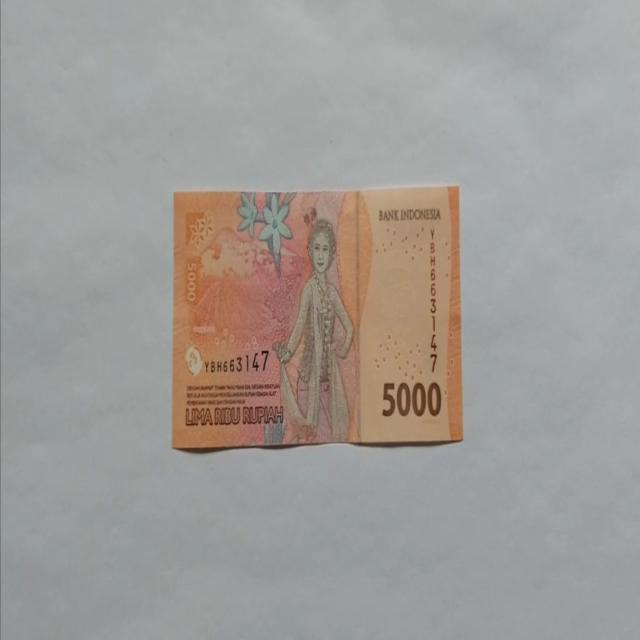lima ribu rupiah: (171, 184, 463, 451), (272, 218, 356, 444)
